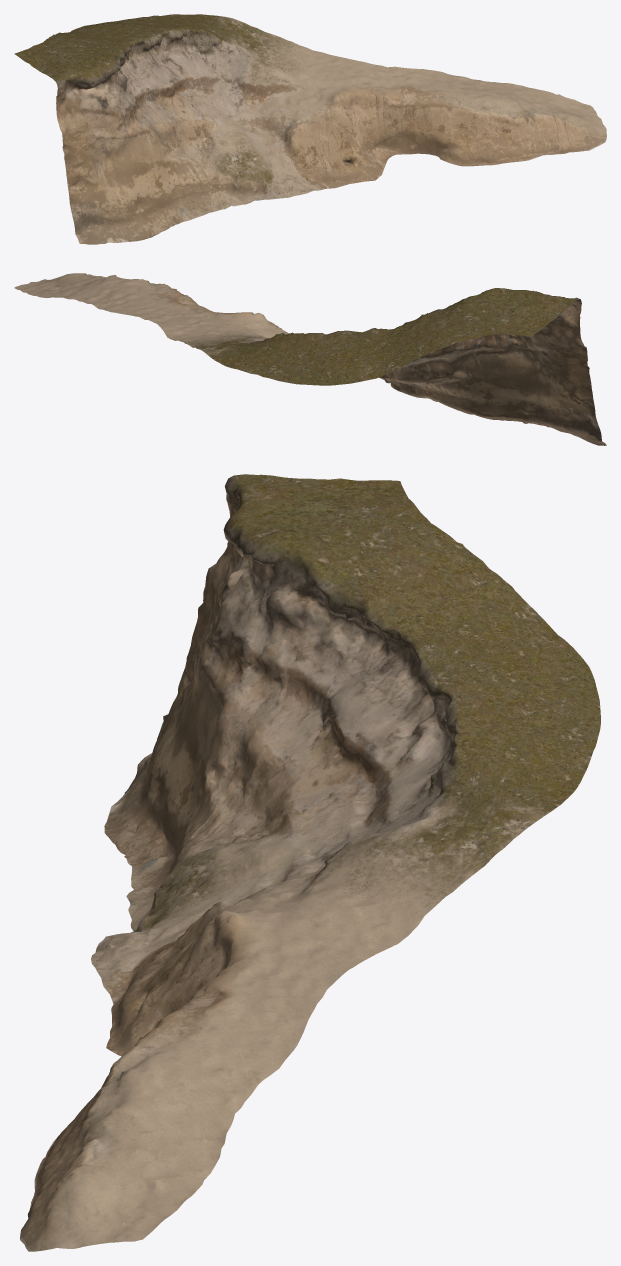
File: beach_cliff_02_ending_right.fbx
3 views of the same model, one above another, from view 1: azimuth 30°, elevation 25°; view 2: azimuth 150°, elevation 25°; view 3: azimuth 270°, elevation 25° (orthographic). The views are drawn at different scales.
Visible parts, largest first — view 1: beach_cliff_02_ending_right_LOD0; view 2: beach_cliff_02_ending_right_LOD0; view 3: beach_cliff_02_ending_right_LOD0.
Part boxes in pixels (x1,y1,x2,y2): beach_cliff_02_ending_right_LOD0: [14, 14, 606, 244]; beach_cliff_02_ending_right_LOD0: [14, 273, 606, 445]; beach_cliff_02_ending_right_LOD0: [20, 474, 600, 1251].
Size of what is drawn, in the model's own units: 2300 by 641 by 1129.
